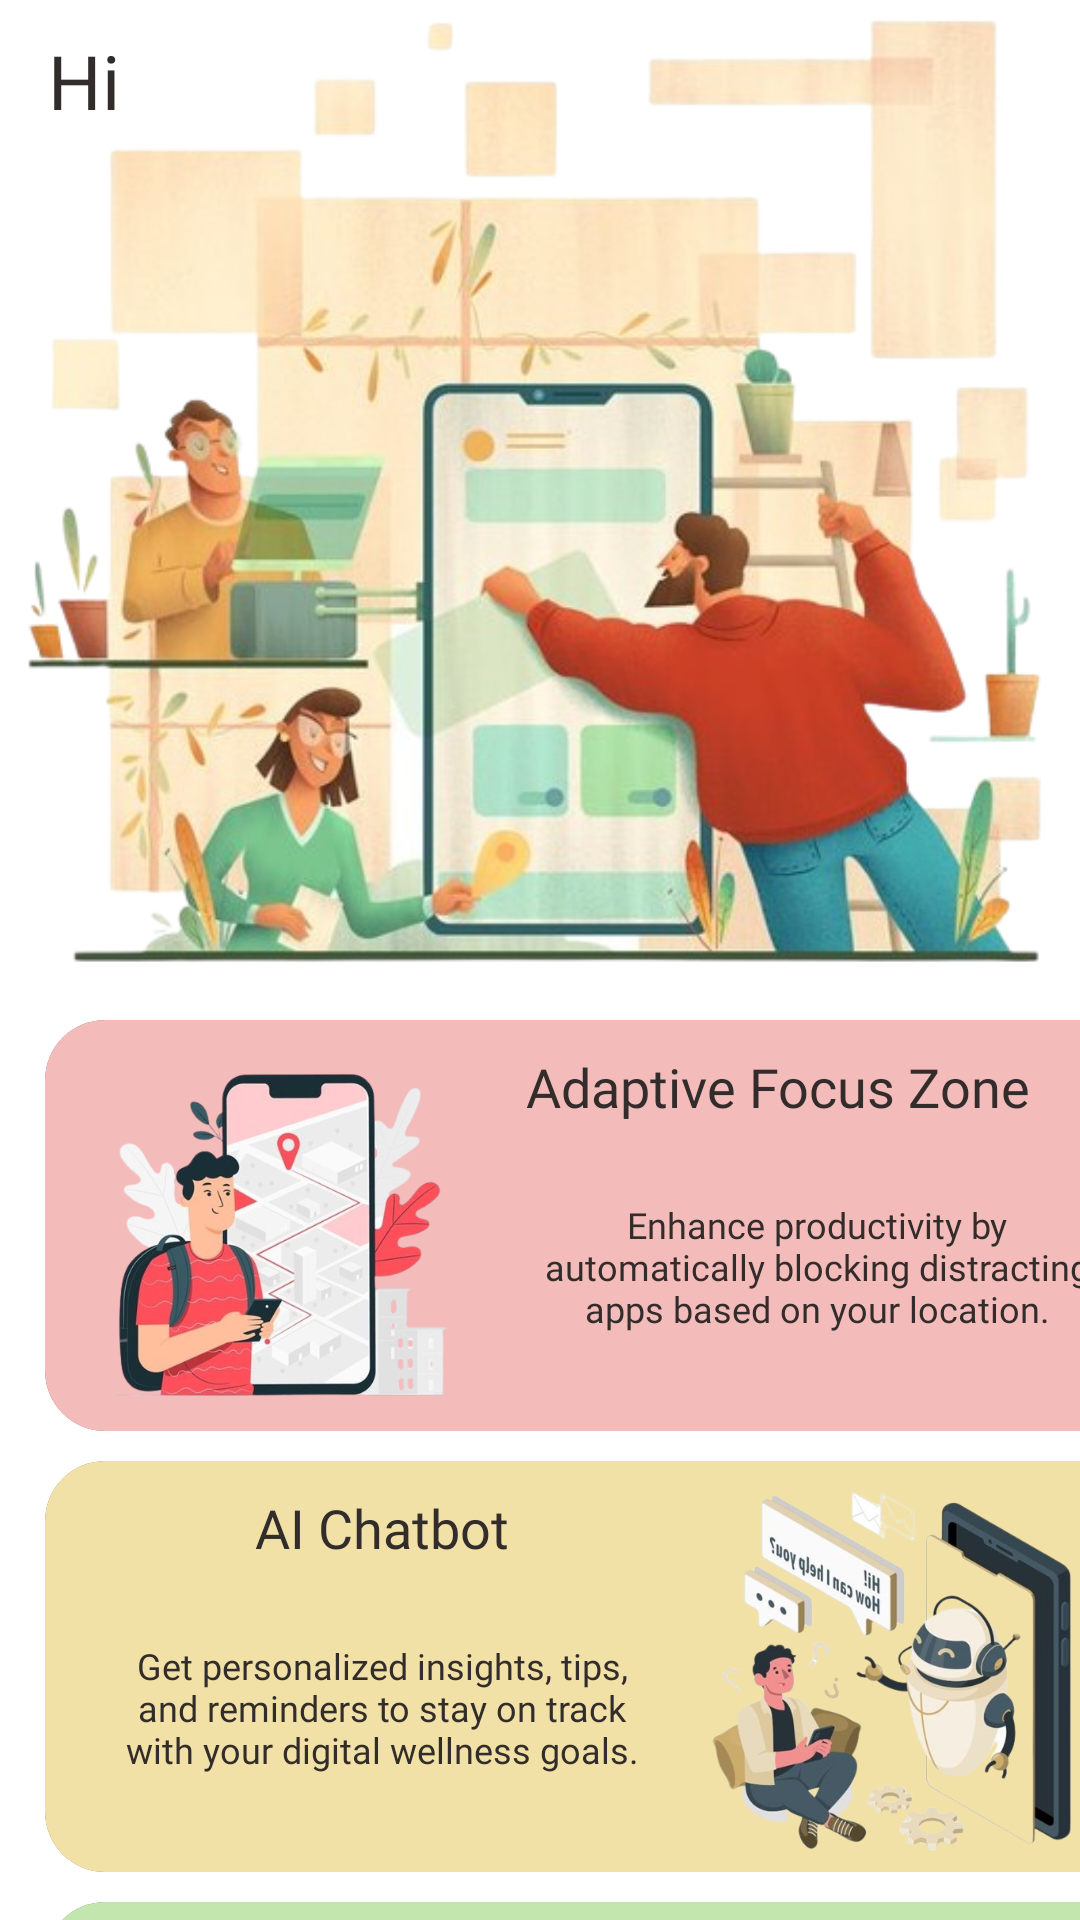

Point at icon controls on the screen. Image size 1080x1920, points as point (x, y).
dash ai: point (892, 1671)
dash location: point (282, 1235)
